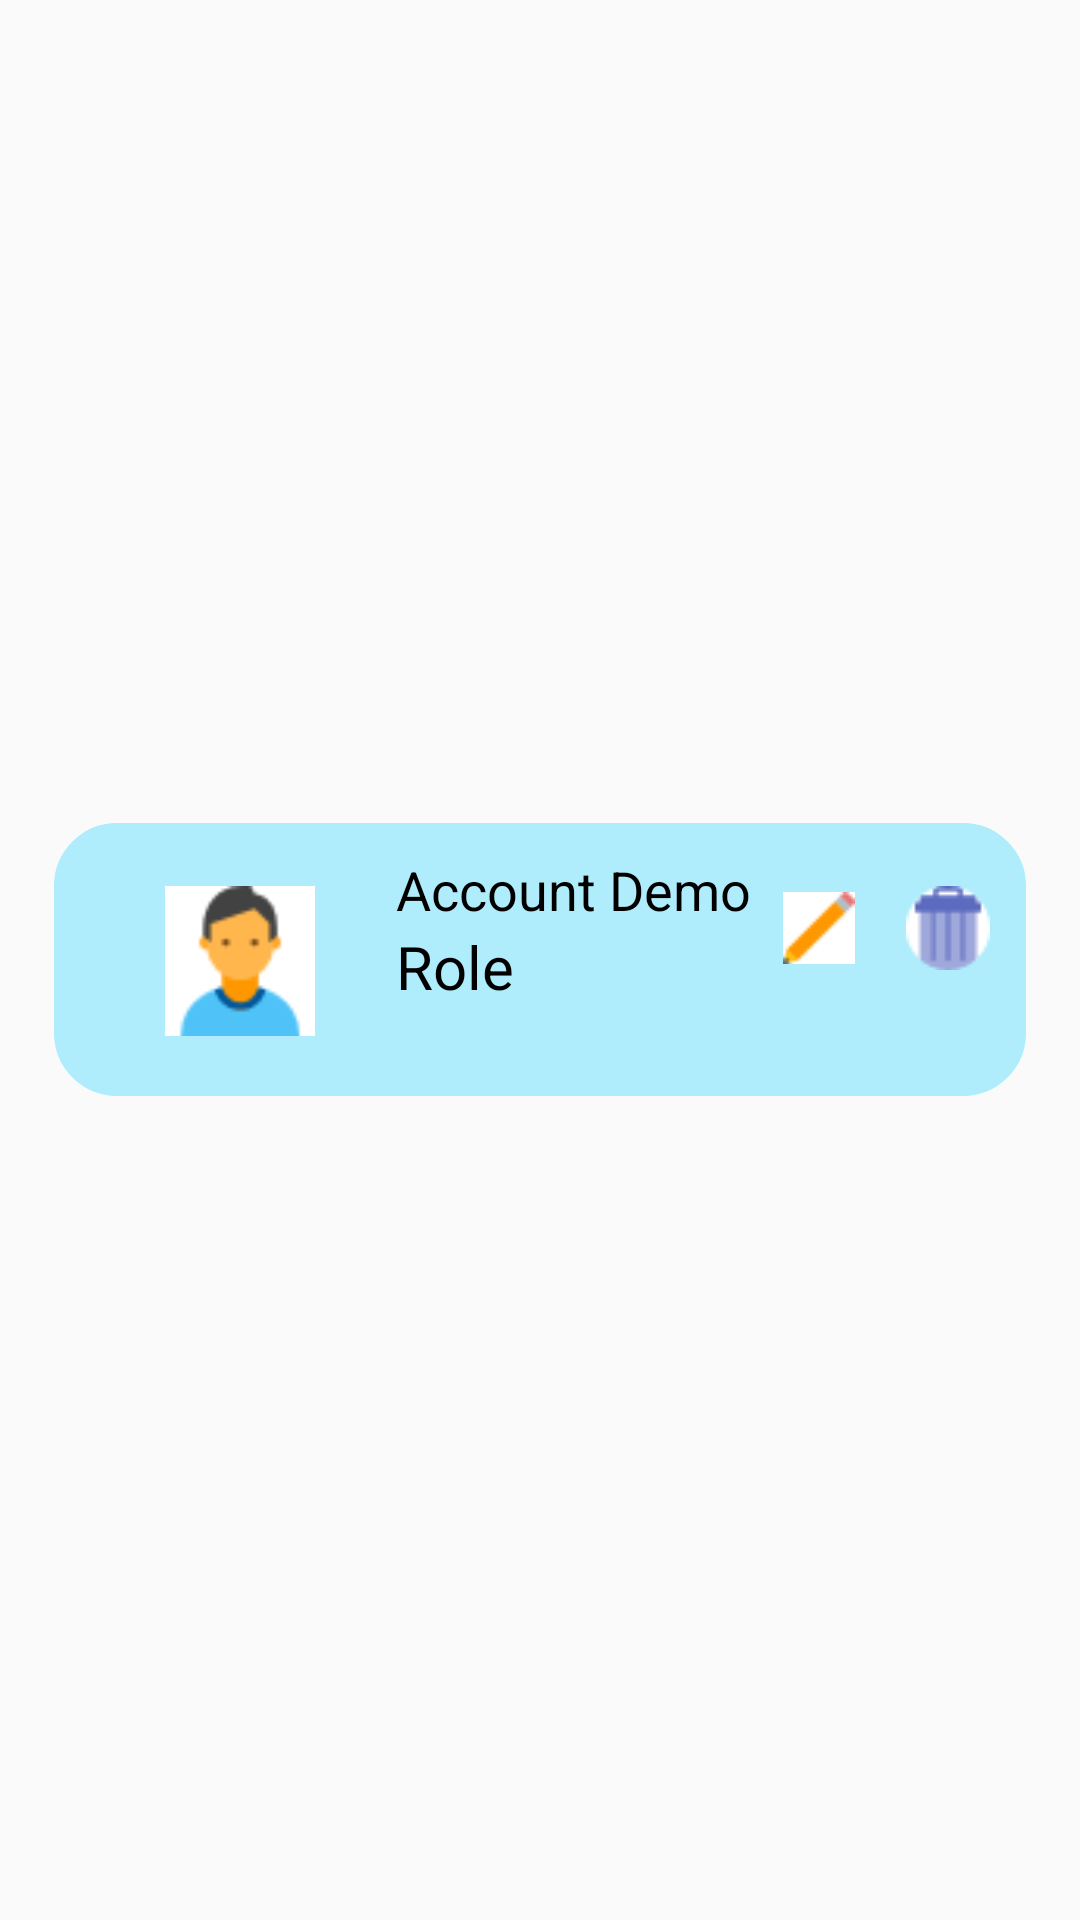

Screen size 1080 x 1920. Icon name, then its center in pixels as [x,y]:
delete: [948,928]
rename: [819,928]
